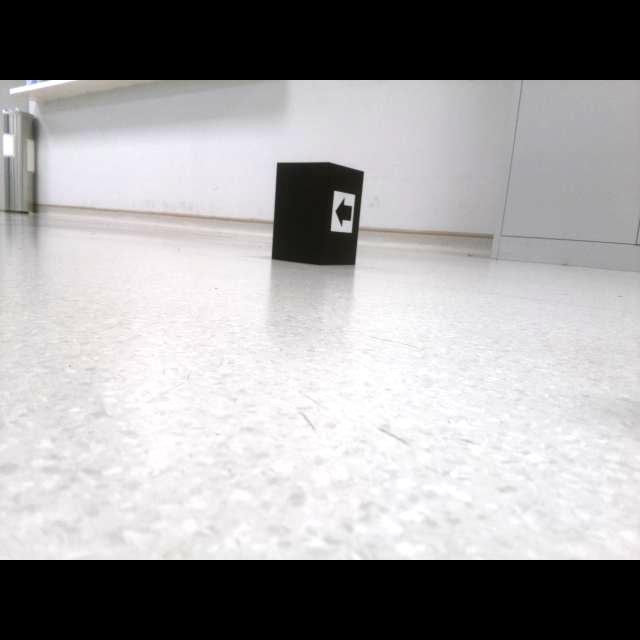LEFT: (335, 196, 352, 228)
